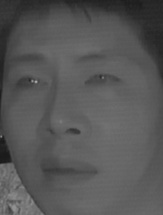eye: (82, 70, 126, 91), (14, 71, 50, 95)
mouth: (39, 154, 98, 190)
